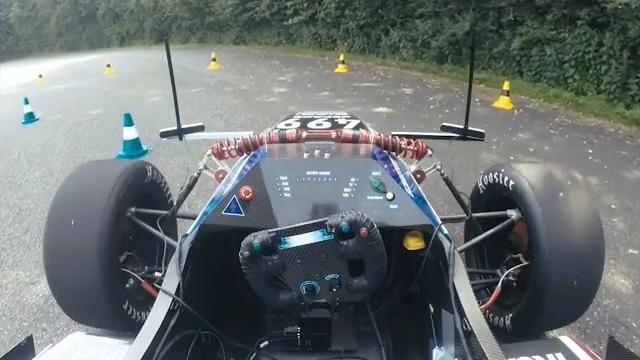blue_cone: (113, 109, 150, 162), (19, 97, 41, 127)
yellow_cone: (492, 76, 516, 111), (334, 51, 351, 76), (204, 51, 222, 71)
